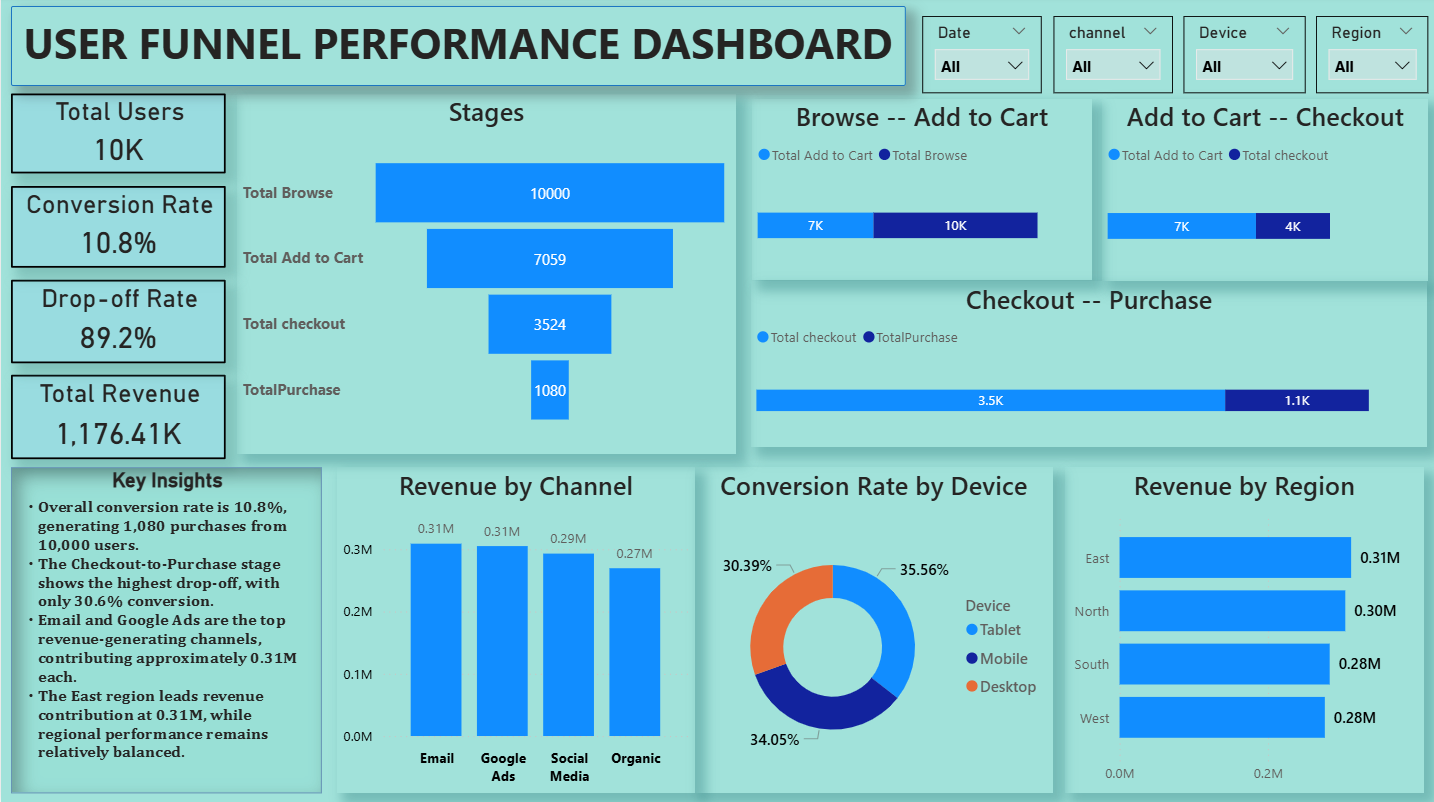

The page's visual inventory and layout, read from the dashboard file:
{"tool":"powerbi","page":{"name":"Page 1","canvas":[1280,720],"ordinal":0},"visuals":[{"type":"textbox","box":[9.4,8.4,796.5,71.4],"z":0},{"type":"slicer","fields":{"Values":["funnel_analysis_data.Date.Variation.Date Hierarchy.Day"]},"box":[820.4,18.1,106.2,68.8],"z":1000},{"type":"slicer","fields":{"Values":["funnel_analysis_data.Channel"]},"box":[937.4,18.1,106.2,68.8],"z":2000},{"type":"slicer","fields":{"Values":["funnel_analysis_data.Device"]},"box":[1053.2,18.1,108.6,68.8],"z":3000},{"type":"slicer","fields":{"Values":["funnel_analysis_data.Region"]},"box":[1171.5,18.1,100.1,68.8],"z":4000},{"type":"card","title":"Total Users","fields":{"Values":["funnel_analysis_data.Total Count"]},"box":[9.4,87.1,191,71.4],"z":5000},{"type":"card","title":"Total Revenue","fields":{"Values":["Sum(funnel_analysis_data.Revenue)"]},"box":[9.4,336.8,191,75.6],"z":6000},{"type":"card","title":"Drop-off Rate","fields":{"Values":["funnel_analysis_data.Drop off Rate"]},"box":[9.4,252.9,191,74.5],"z":7000},{"type":"card","title":"Conversion Rate","fields":{"Values":["funnel_analysis_data.conversion Rate"]},"box":[9.4,168.9,191,72.4],"z":8000},{"type":"funnel","title":"Stages","fields":{"Y":["funnel_analysis_data.Total Browse","funnel_analysis_data.Total Add to Cart","funnel_analysis_data.Total checkout","funnel_analysis_data.TotalPurchase"]},"box":[210.9,87.1,443.9,321.1],"z":9000},{"type":"barChart","title":"Browse -- Add to Cart","fields":{"Y":["funnel_analysis_data.Total Add to Cart","funnel_analysis_data.Total Browse"]},"box":[669.5,91.3,302.2,161.6],"z":10000},{"type":"barChart","title":"Checkout -- Purchase","fields":{"Y":["funnel_analysis_data.Total checkout","funnel_analysis_data.TotalPurchase"]},"box":[668.4,253.9,602.3,148],"z":11000},{"type":"barChart","title":"Add to Cart -- Checkout","fields":{"Y":["funnel_analysis_data.Total Add to Cart","funnel_analysis_data.Total checkout"]},"box":[981.1,91.3,290.7,162.6],"z":12000},{"type":"columnChart","title":"Revenue by Channel","fields":{"Y":["Sum(funnel_analysis_data.Revenue)"],"Category":["funnel_analysis_data.Channel"]},"box":[299.4,419.7,318.4,290.5],"z":13000},{"type":"donutChart","title":"Conversion Rate by Device","fields":{"Y":["funnel_analysis_data.conversion Rate"],"Category":["funnel_analysis_data.Device"]},"box":[618.1,419.7,319,290.7],"z":14000},{"type":"clusteredBarChart","title":"Revenue by Region ","fields":{"Category":["funnel_analysis_data.Region"],"Y":["Sum(funnel_analysis_data.Revenue)"]},"box":[947.6,419.7,320.1,290.7],"z":15000},{"type":"textbox","title":"Key Insights","box":[8.9,419.7,277.2,290.5],"z":16000}]}

Visuals, with their boxes in screenshot pixels (x1, y1, x2, y2), scaled from the page's 1280x720 canvas onto the 1434x802 screenshot:
textbox: <region>11, 9, 903, 89</region>
slicer - funnel_analysis_data.Date.Variation.Date Hierarchy.Day: <region>919, 20, 1038, 97</region>
slicer - funnel_analysis_data.Channel: <region>1050, 20, 1169, 97</region>
slicer - funnel_analysis_data.Device: <region>1180, 20, 1302, 97</region>
slicer - funnel_analysis_data.Region: <region>1312, 20, 1425, 97</region>
"Total Users" card: <region>11, 97, 225, 177</region>
"Total Revenue" card: <region>11, 375, 225, 459</region>
"Drop-off Rate" card: <region>11, 282, 225, 365</region>
"Conversion Rate" card: <region>11, 188, 225, 269</region>
"Stages" funnel: <region>236, 97, 734, 455</region>
"Browse -- Add to Cart" barChart: <region>750, 102, 1089, 282</region>
"Checkout -- Purchase" barChart: <region>749, 283, 1424, 448</region>
"Add to Cart -- Checkout" barChart: <region>1099, 102, 1425, 283</region>
"Revenue by Channel" columnChart: <region>335, 467, 692, 791</region>
"Conversion Rate by Device" donutChart: <region>692, 467, 1050, 791</region>
"Revenue by Region " clusteredBarChart: <region>1062, 467, 1420, 791</region>
"Key Insights" textbox: <region>10, 467, 321, 791</region>
